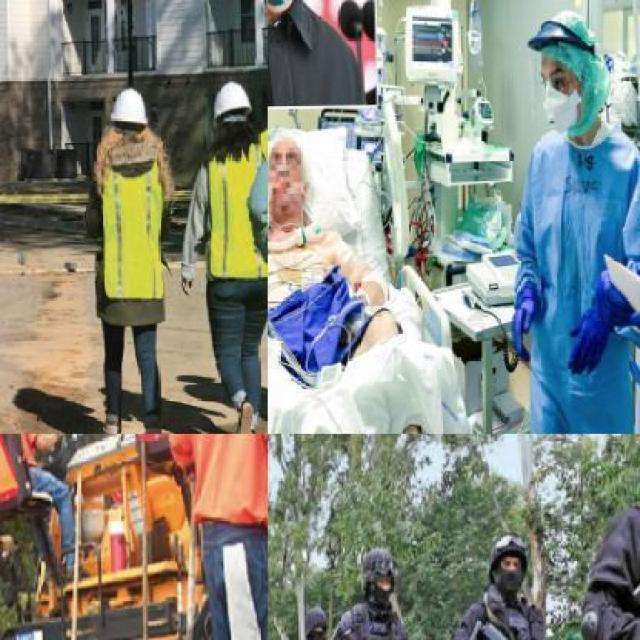Vest: (518, 140, 632, 432), (97, 139, 166, 303), (199, 138, 266, 284), (194, 434, 266, 532), (471, 580, 552, 638), (340, 590, 411, 638), (0, 434, 43, 491)
